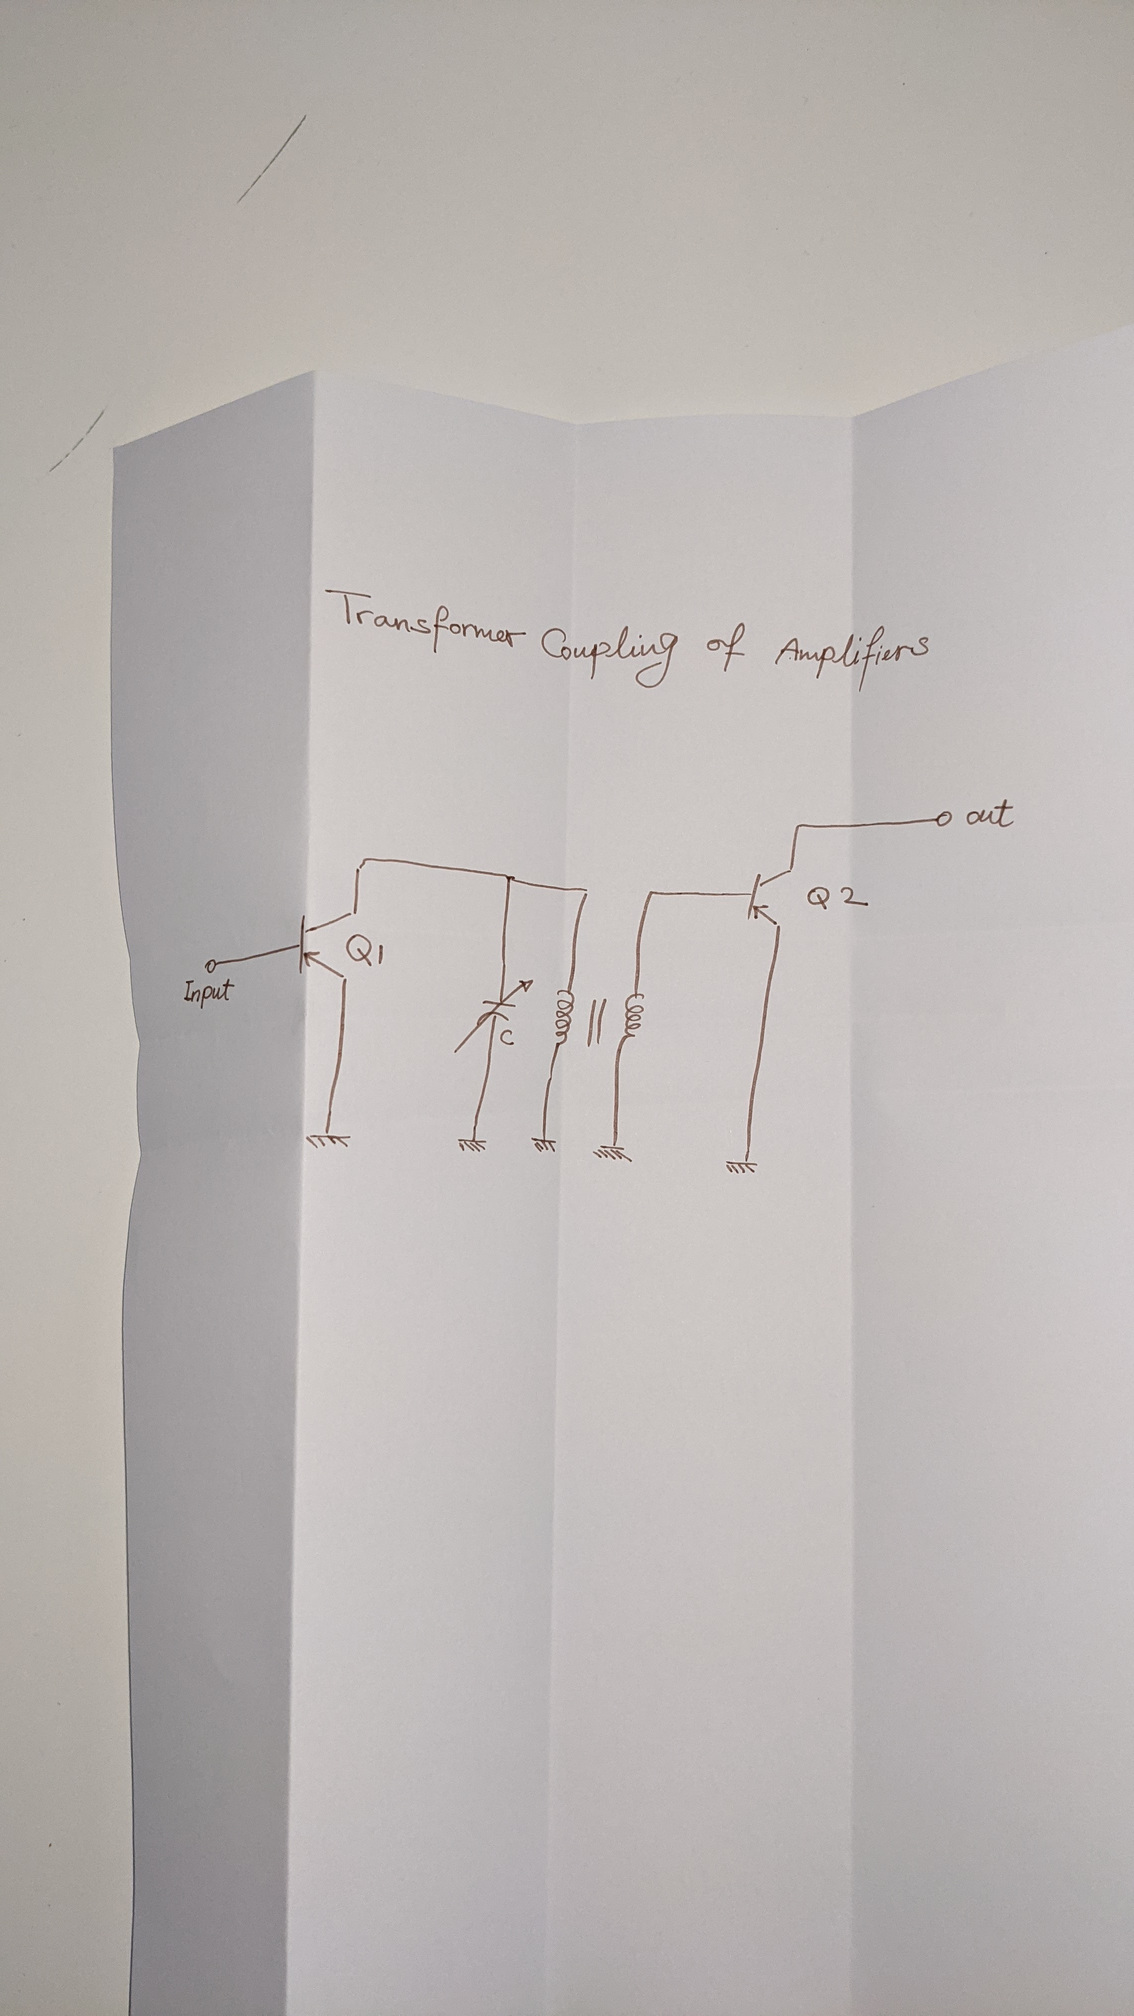capacitor.unpolarized: (451, 978, 534, 1054)
gnd: (590, 1141, 636, 1164), (305, 1130, 354, 1151), (723, 1158, 762, 1176), (456, 1135, 490, 1153), (529, 1134, 559, 1153)
junction: (354, 856, 370, 872), (501, 871, 516, 885), (579, 885, 593, 899), (647, 888, 658, 900), (793, 821, 804, 832)
terminal: (935, 809, 954, 829), (204, 957, 219, 975)
text: (323, 586, 933, 694), (804, 883, 871, 912), (181, 976, 237, 1011), (964, 796, 1016, 829), (345, 930, 388, 969), (498, 1027, 516, 1047)
transformer: (554, 989, 647, 1051)
transistor: (295, 908, 360, 984), (745, 865, 795, 930)
